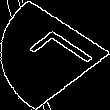L_SE: (14, 26, 96, 84)
